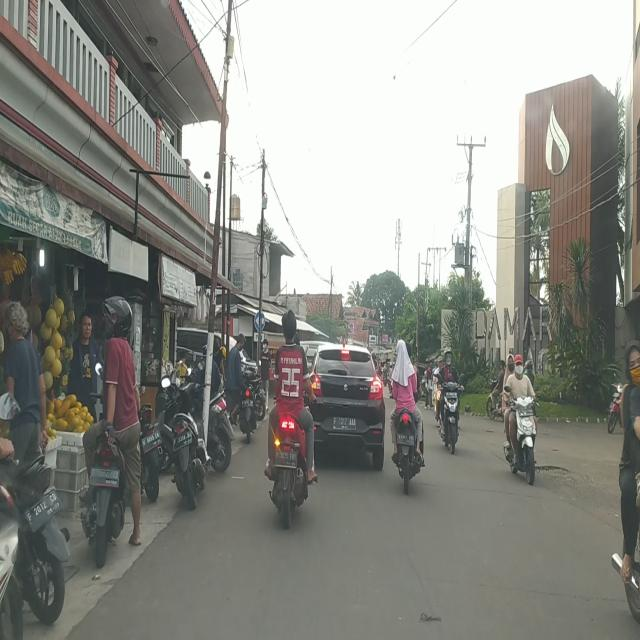Sewer Cover: (418, 570, 626, 602), (412, 479, 552, 499)
